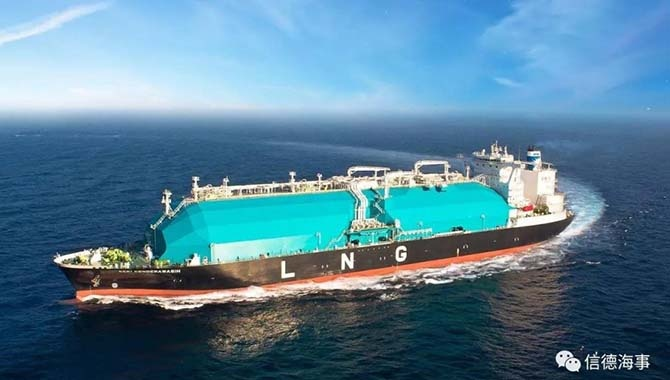Cargoship: (60, 134, 576, 316)
